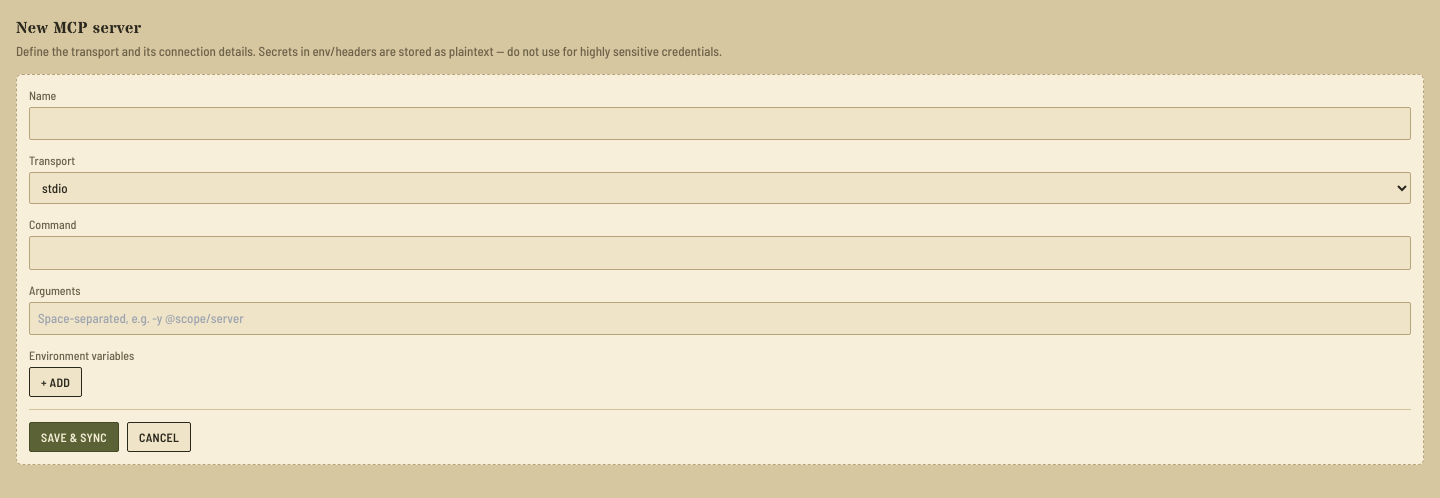
Test case: McpServerEditor › an invalid url surfaces an error and blocks save
Type "bad" into the field with test id "mcp-name".
click(720, 123); type("bad")  # box [29, 106, 1411, 140]
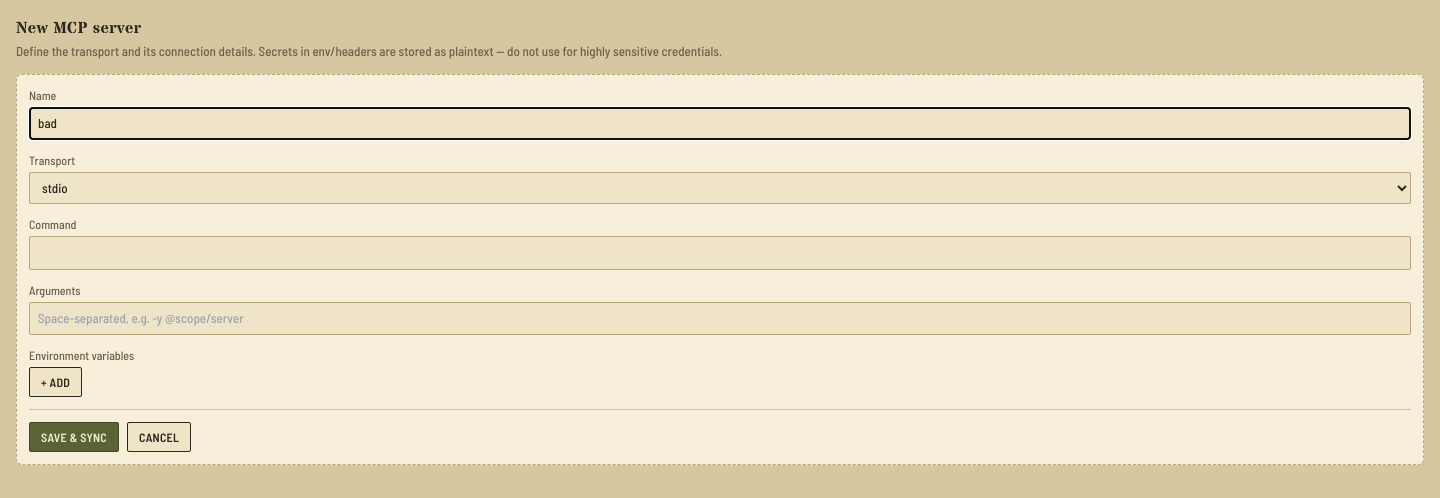
Select "http" in the dropdown with test id "mcp-transport" at (720, 188), box [29, 172, 1411, 204]
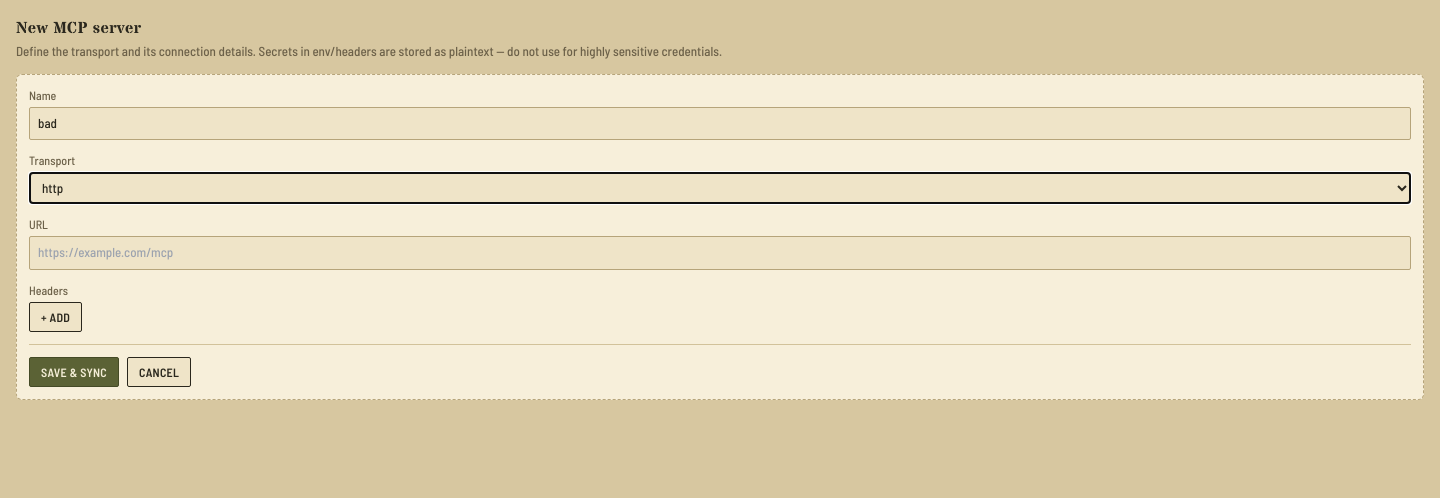
Type "not a url" into the field with test id "mcp-url".
click(720, 253); type("not a url")  # box [29, 236, 1411, 270]
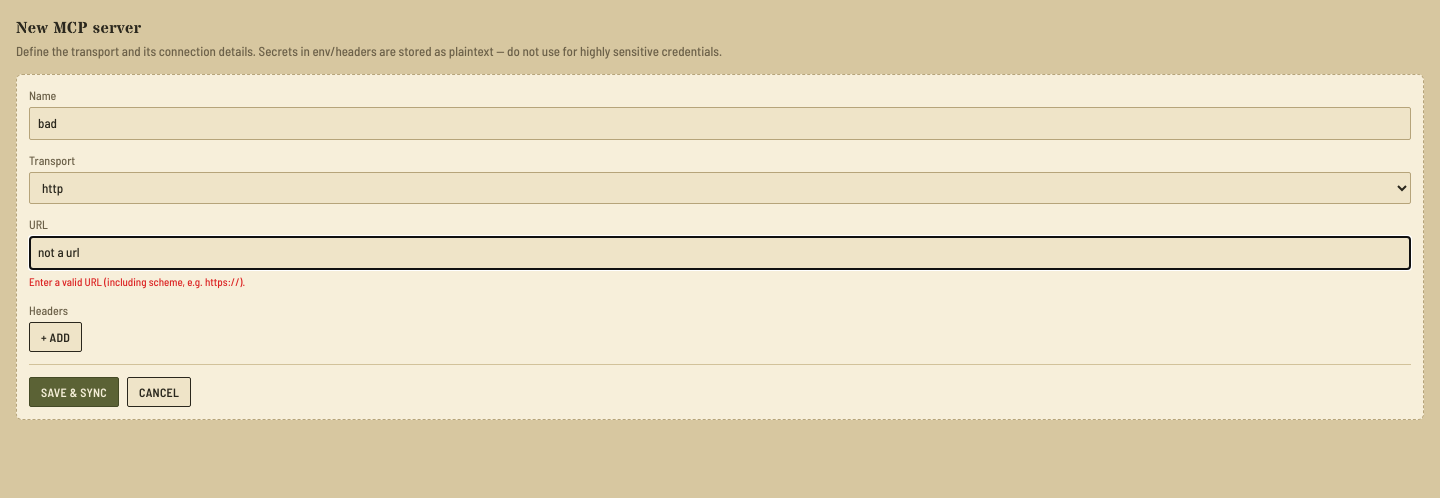
Expected: the button with test id "mcp-save" is disabled, [29, 377, 119, 407]
Expected: the message "Enter a valid URL (including scheme, e.g. https://)." is shown, [29, 274, 245, 288]
